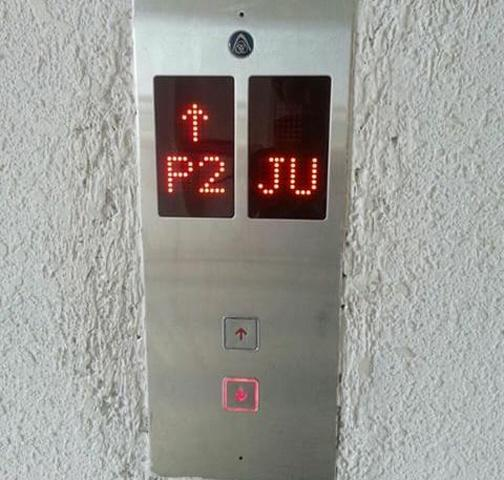down: (221, 375, 259, 412)
led: (244, 70, 333, 222), (149, 71, 237, 221)
unknown: (225, 28, 255, 57)
up: (220, 315, 259, 351)
